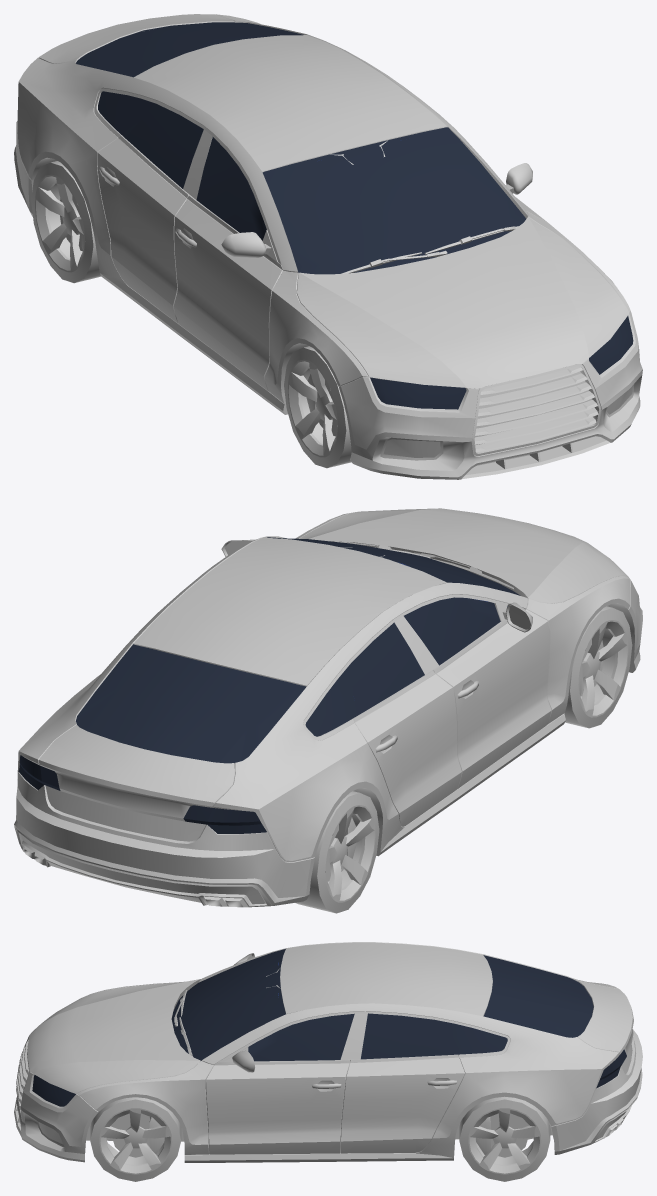
Rendered from RealisticCar02_HD_LOD2.FBX.
3 views of the same model, one above another, from view 1: azimuth 30°, elevation 25°; view 2: azimuth 150°, elevation 25°; view 3: azimuth 270°, elevation 25° (orthographic). The views are drawn at different scales.
Parts seen in each view (by area): view 1: Car02_Body_LOD2, Car02_Glass_LOD2, Car02_Door_FrontRight_LOD2, Car02_Door_BackRight_LOD2, Car02_Wheel_BackRight_LOD2, Car02_Wheel_FrontRight_LOD2, Car02_Door_FrontLeft_LOD2; view 2: Car02_Body_LOD2, Car02_Glass_LOD2, Car02_Door_FrontRight_LOD2, Car02_Door_BackRight_LOD2, Car02_Wheel_BackRight_LOD2, Car02_Wheel_FrontRight_LOD2; view 3: Car02_Body_LOD2, Car02_Door_FrontLeft_LOD2, Car02_Glass_LOD2, Car02_Door_BackLeft_LOD2, Car02_Wheel_BacktLeft_LOD2, Car02_Wheel_FrontLeft_LOD2, Car02_BrakeDisc_FrontLeft_LOD2, Car02_BrakeDisc_BacktLeft_LOD2.
Boxes of the visible parts, x1,y1,x2,y2 form: Car02_Body_LOD2: (14,14,642,479); Car02_Glass_LOD2: (76,22,633,409); Car02_Door_FrontRight_LOD2: (173,137,282,390); Car02_Door_BackRight_LOD2: (97,103,203,323); Car02_Wheel_BackRight_LOD2: (31,161,101,283); Car02_Wheel_FrontRight_LOD2: (284,346,351,468); Car02_Door_FrontLeft_LOD2: (505,163,547,222); Car02_Body_LOD2: (14,508,642,907); Car02_Glass_LOD2: (18,537,520,833); Car02_Door_FrontRight_LOD2: (404,597,551,788); Car02_Door_BackRight_LOD2: (348,622,461,826); Car02_Wheel_BackRight_LOD2: (295,791,379,913); Car02_Wheel_FrontRight_LOD2: (564,606,632,728); Car02_Body_LOD2: (14,942,642,1162); Car02_Door_FrontLeft_LOD2: (205,1013,354,1154); Car02_Glass_LOD2: (32,949,626,1106); Car02_Door_BackLeft_LOD2: (340,1013,464,1153); Car02_Wheel_BacktLeft_LOD2: (459,1096,550,1181); Car02_Wheel_FrontLeft_LOD2: (90,1097,181,1181); Car02_BrakeDisc_FrontLeft_LOD2: (112,1113,150,1157); Car02_BrakeDisc_BacktLeft_LOD2: (490,1113,527,1157).
Size of the model in its own units: 2.09 by 1.43 by 5.03.
